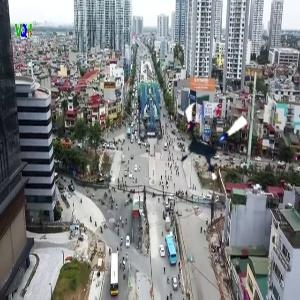drone: (167, 96, 252, 181)
